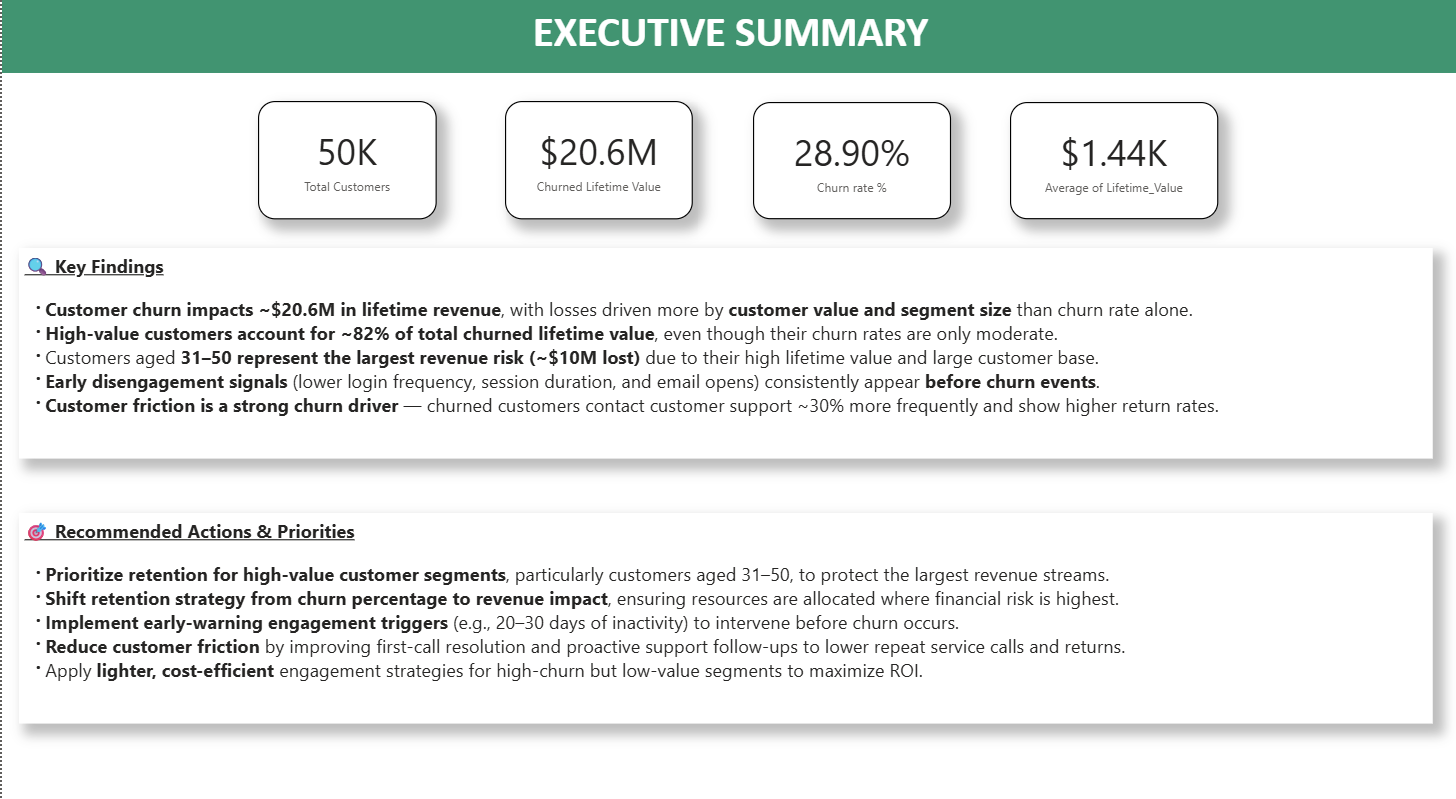

The page's visual inventory and layout, read from the dashboard file:
{"tool":"powerbi","page":{"name":"Summary Page","canvas":[1280,720],"ordinal":0},"visuals":[{"type":"textbox","box":[0,0,1280,65],"z":0},{"type":"card","fields":{"Values":["ecommerce_customer_churn_datase.Churn rate %"]},"box":[660,90.4,173.7,103],"z":1000},{"type":"card","fields":{"Values":["ecommerce_customer_churn_dataset.Churned Lifetime Value"]},"box":[441.5,89.6,164.8,103.9],"z":2000},{"type":"card","fields":{"Values":["ecommerce_customer_churn_datase.Total Customers"]},"box":[224.8,89.6,156.7,103.9],"z":3000},{"type":"card","fields":{"Values":["Avg(ecommerce_customer_churn_dataset.Lifetime_Value)"]},"box":[885.7,90.4,182.7,103],"z":4000},{"type":"textbox","box":[15,219,1242,185],"z":5000},{"type":"textbox","box":[15,451.5,1242,185],"z":6000}]}

Visuals, with their boxes in screenshot pixels (x1, y1, x2, y2), scaled from the page's 1280x720 canvas onto the 1456x799 screenshot:
textbox: 0:0:1455:72
card - ecommerce_customer_churn_datase.Churn rate %: 751:100:948:215
card - ecommerce_customer_churn_dataset.Churned Lifetime Value: 502:99:690:215
card - ecommerce_customer_churn_datase.Total Customers: 256:99:434:215
card - Avg(ecommerce_customer_churn_dataset.Lifetime_Value): 1007:100:1215:215
textbox: 17:243:1430:448
textbox: 17:501:1430:706
